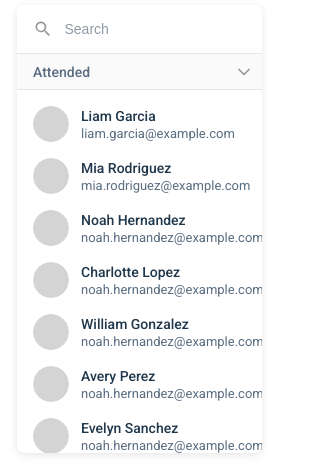
Test: SearchableList Component › expands and collapses sections
The image size is (320, 473).
Click the button "Attended": point(139, 72) [16, 53, 262, 90]
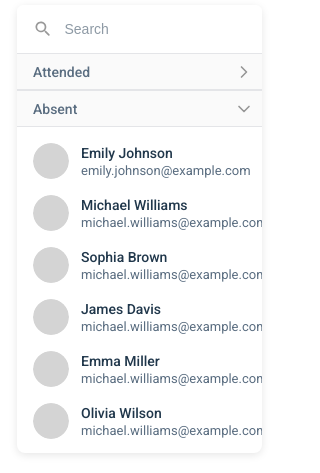
Expected: the text "Liam Garcia" is gone
Click the button "Attended": point(139, 72) [16, 53, 262, 90]
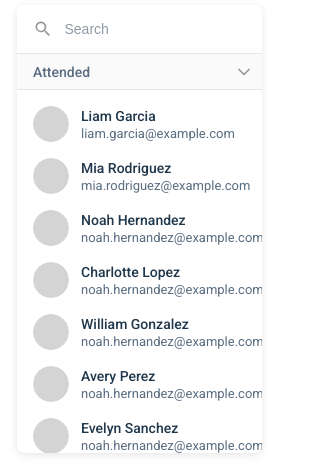
Expected: the text "Liam Garcia" is shown, [80, 108, 155, 124]
